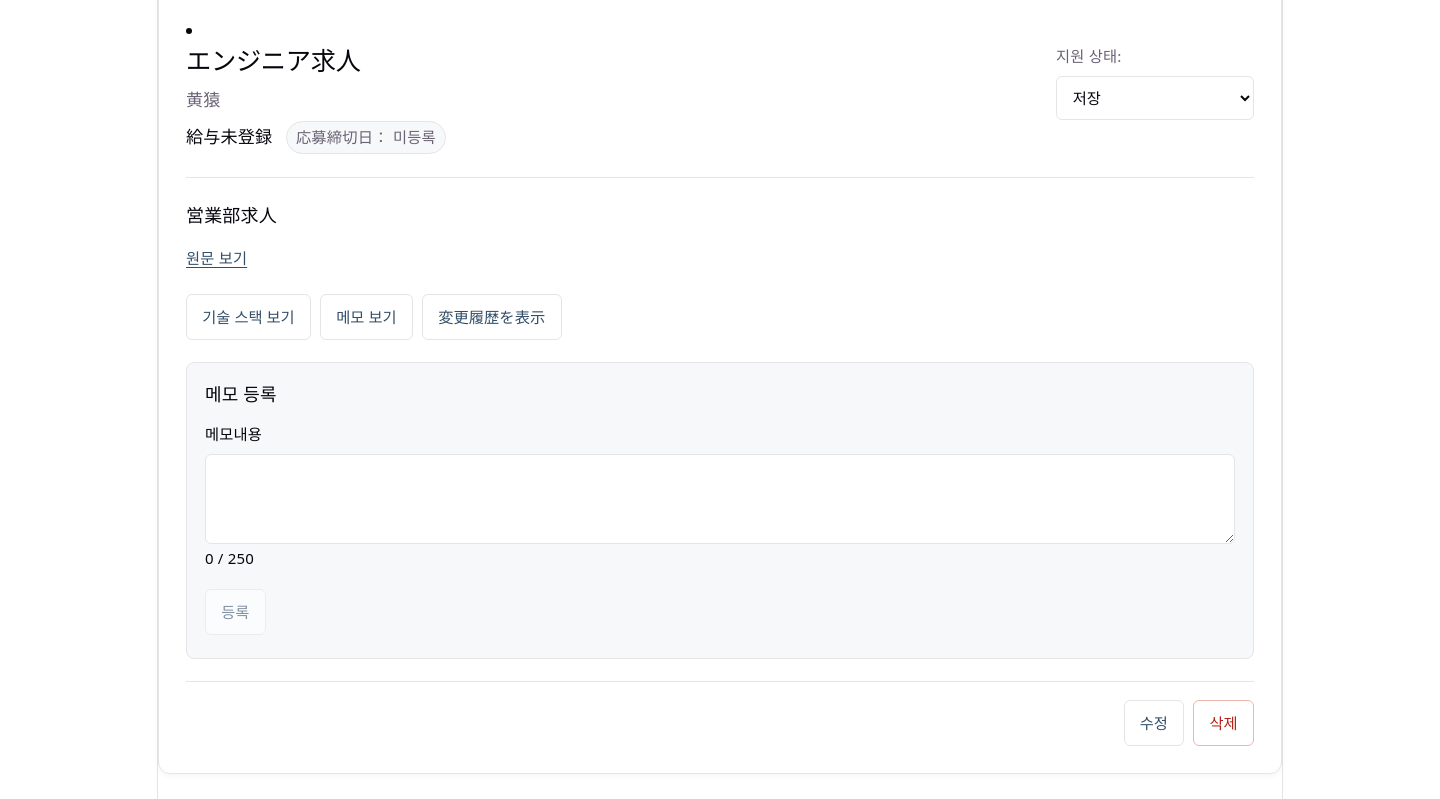
Test case: memos › 메모를 수정한 후 재조회하여 수정된 내용을 표시한다.
Click the button "메모 보기" at (366, 317), box [320,294,413,340]
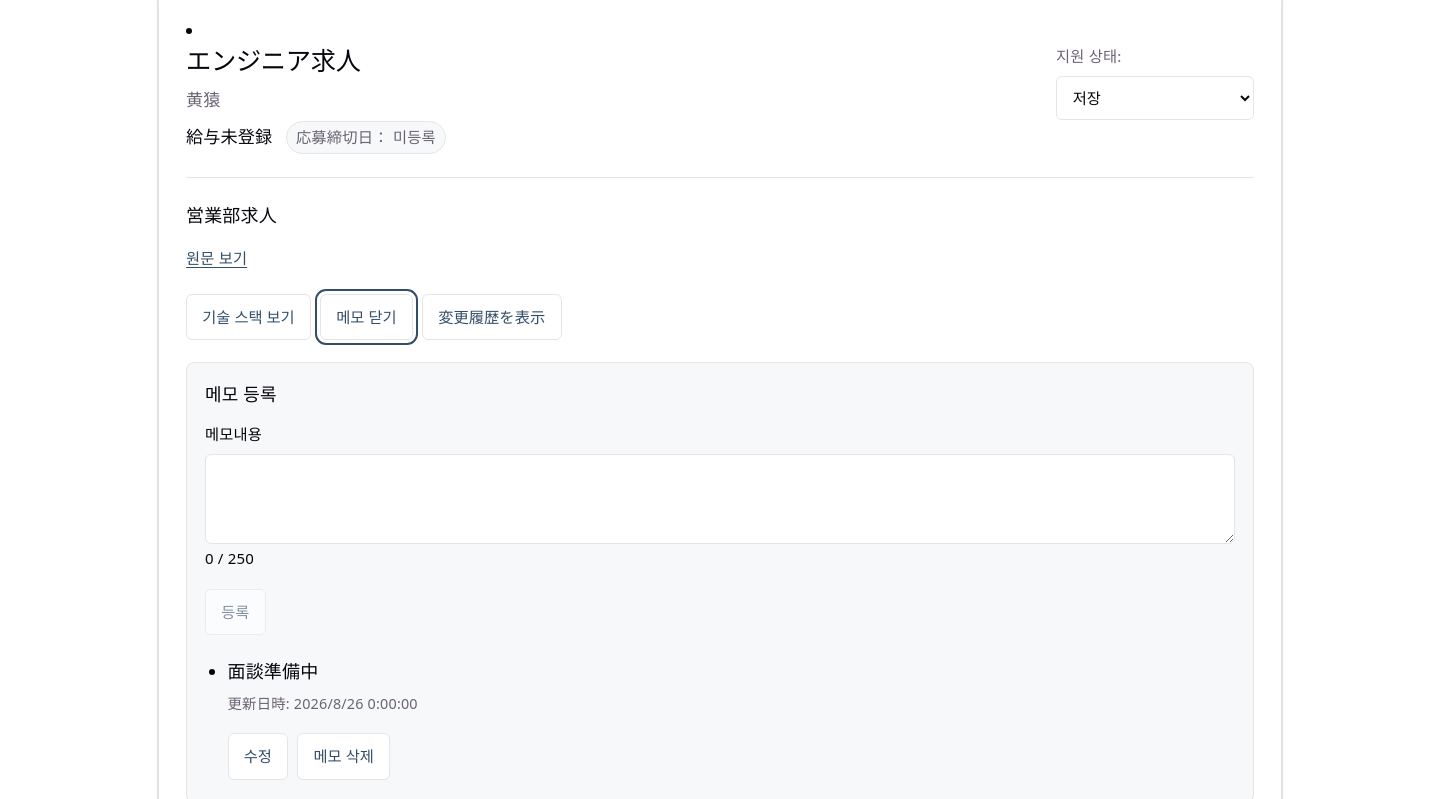
Click the button "수정" at (258, 756), box [228,733,288,780]
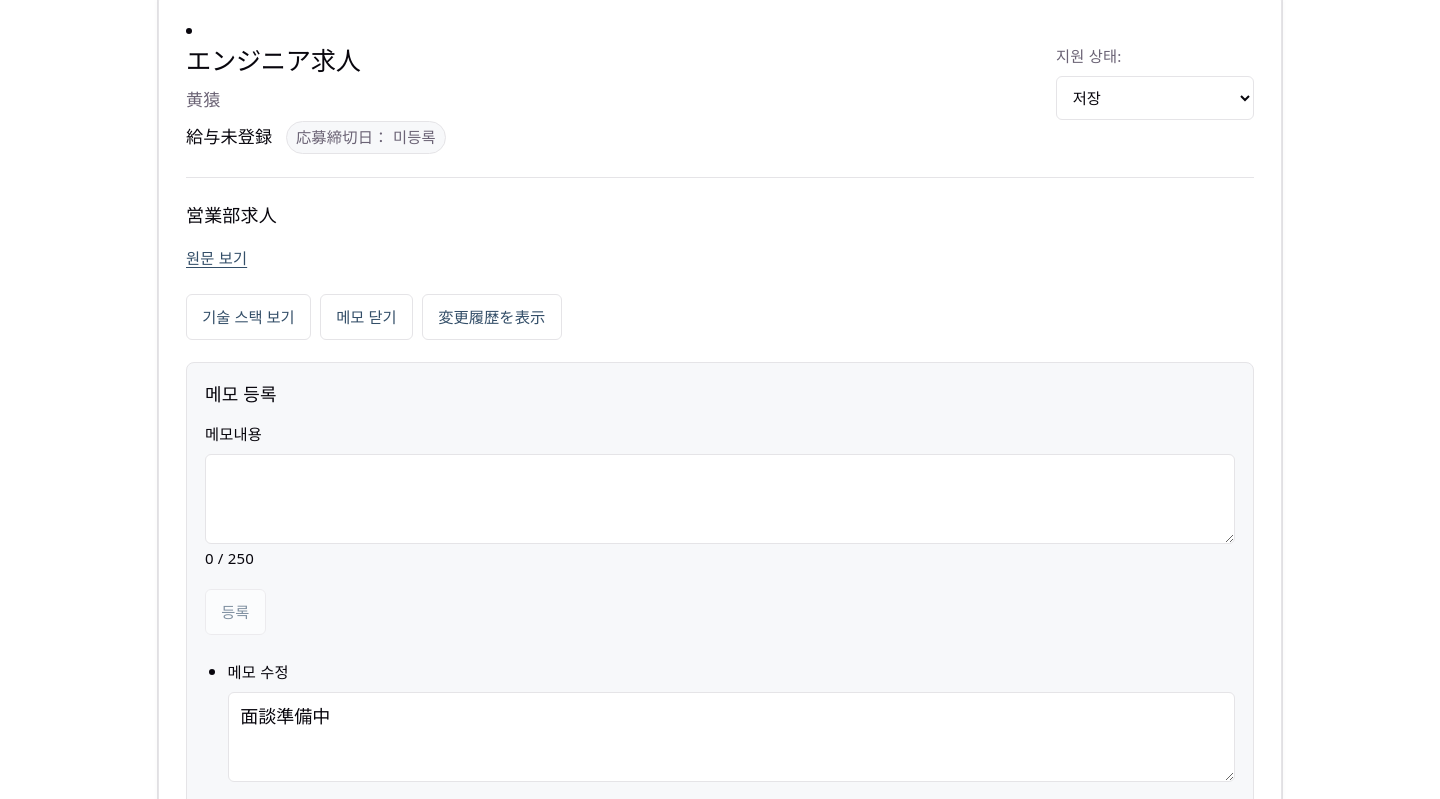
Replace the text in the text box labelled "메모 수정" with "面接日程確認済み" at (731, 737), box [228,692,1235,782]
(page scrolled)
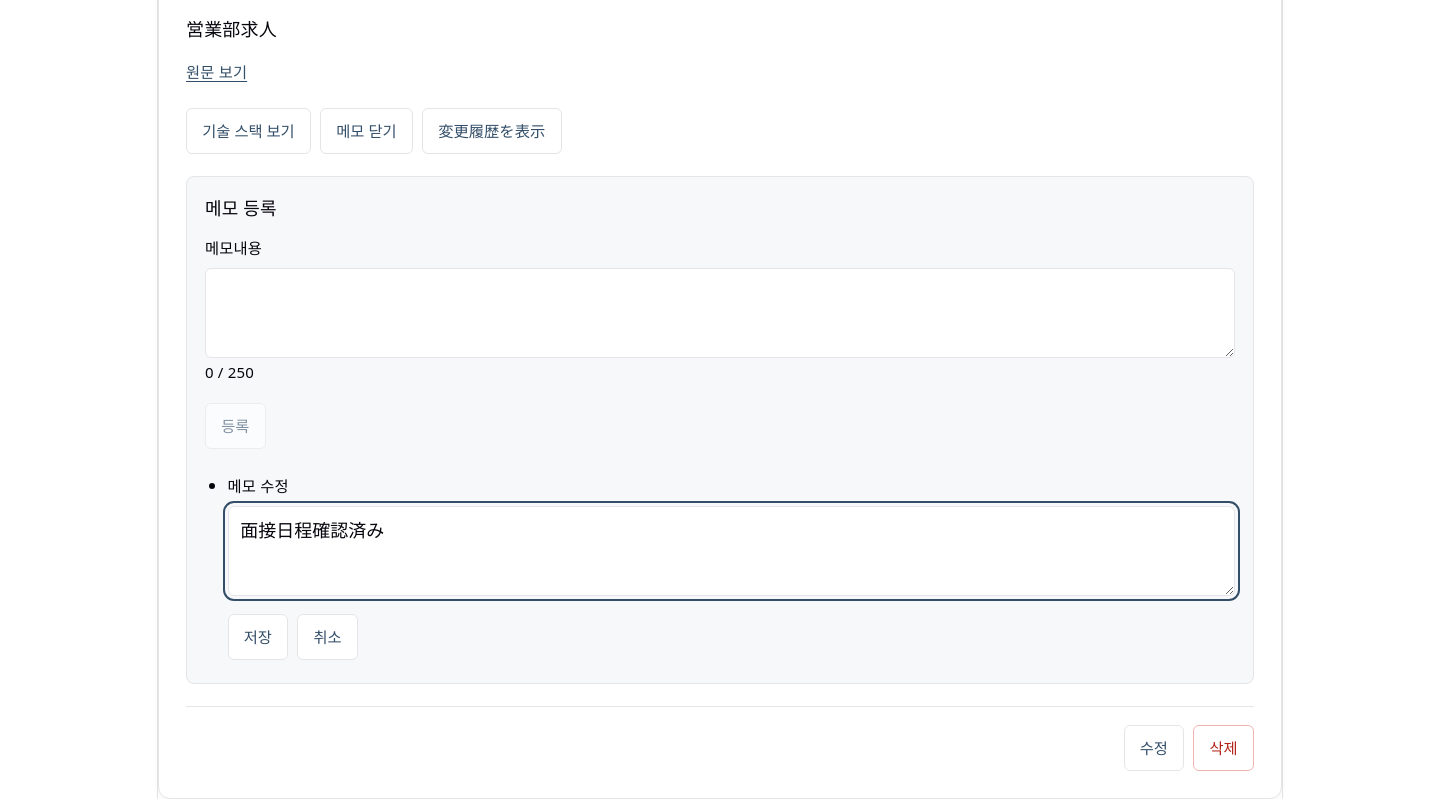
Click the button "저장" at (258, 637), box [228,614,288,660]
(page scrolled)
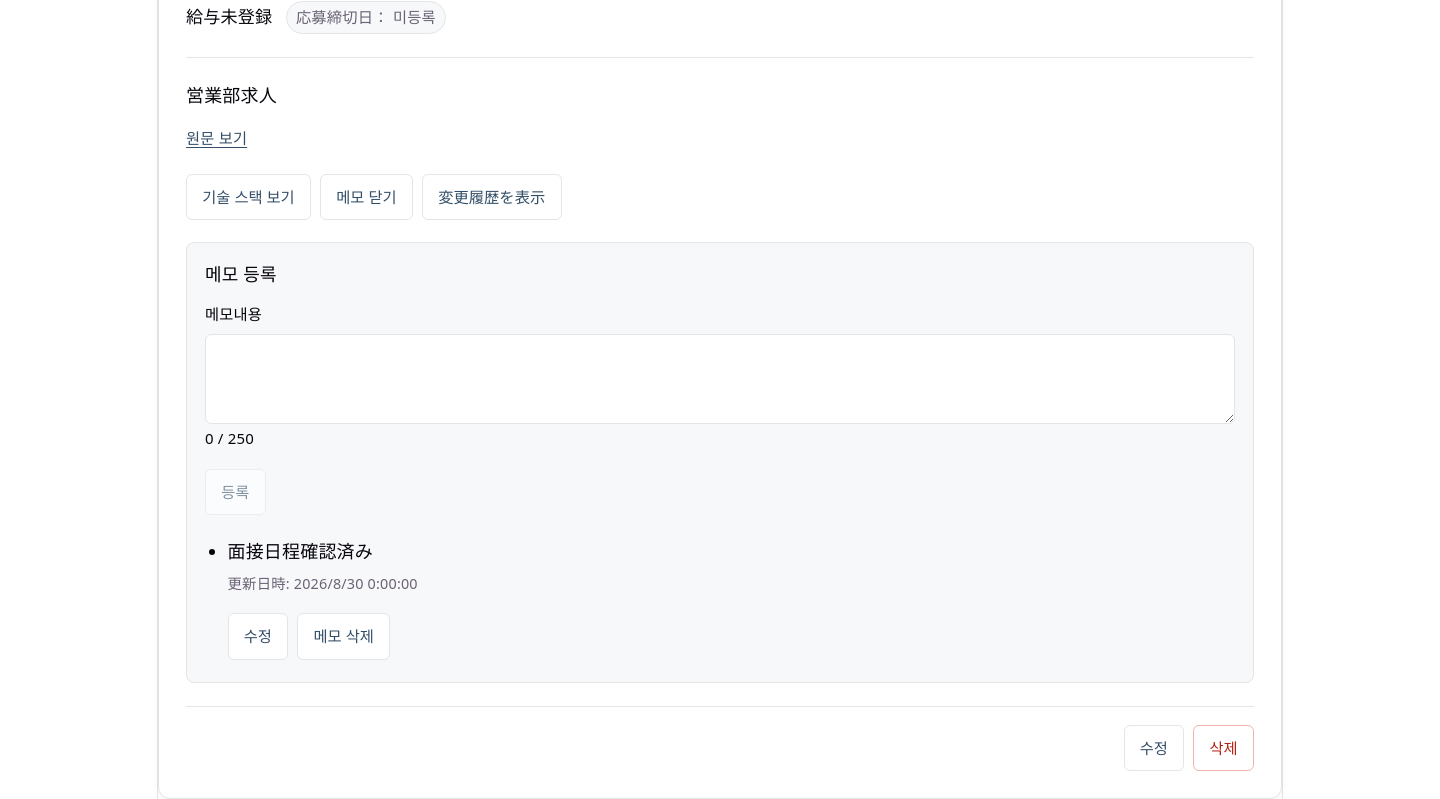
expect the text "面談準備中" is not shown: met
expect the text "面接日程確認済み" is shown: met, box [228,539,373,563]
